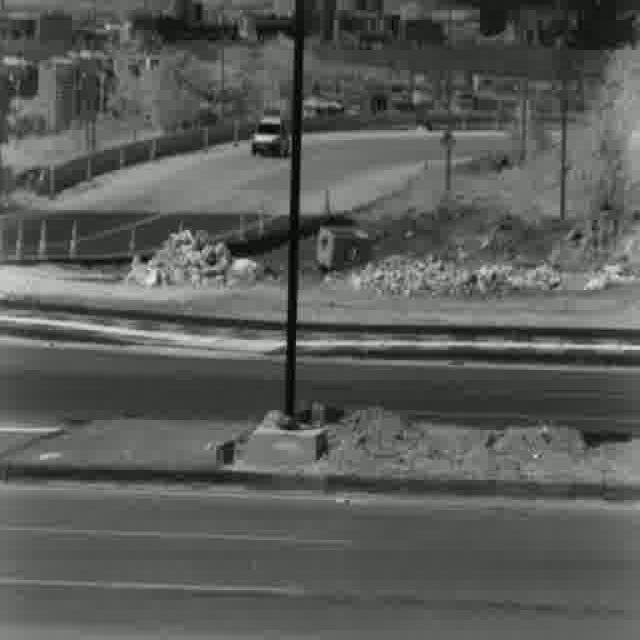Car: (251, 114, 290, 156)
